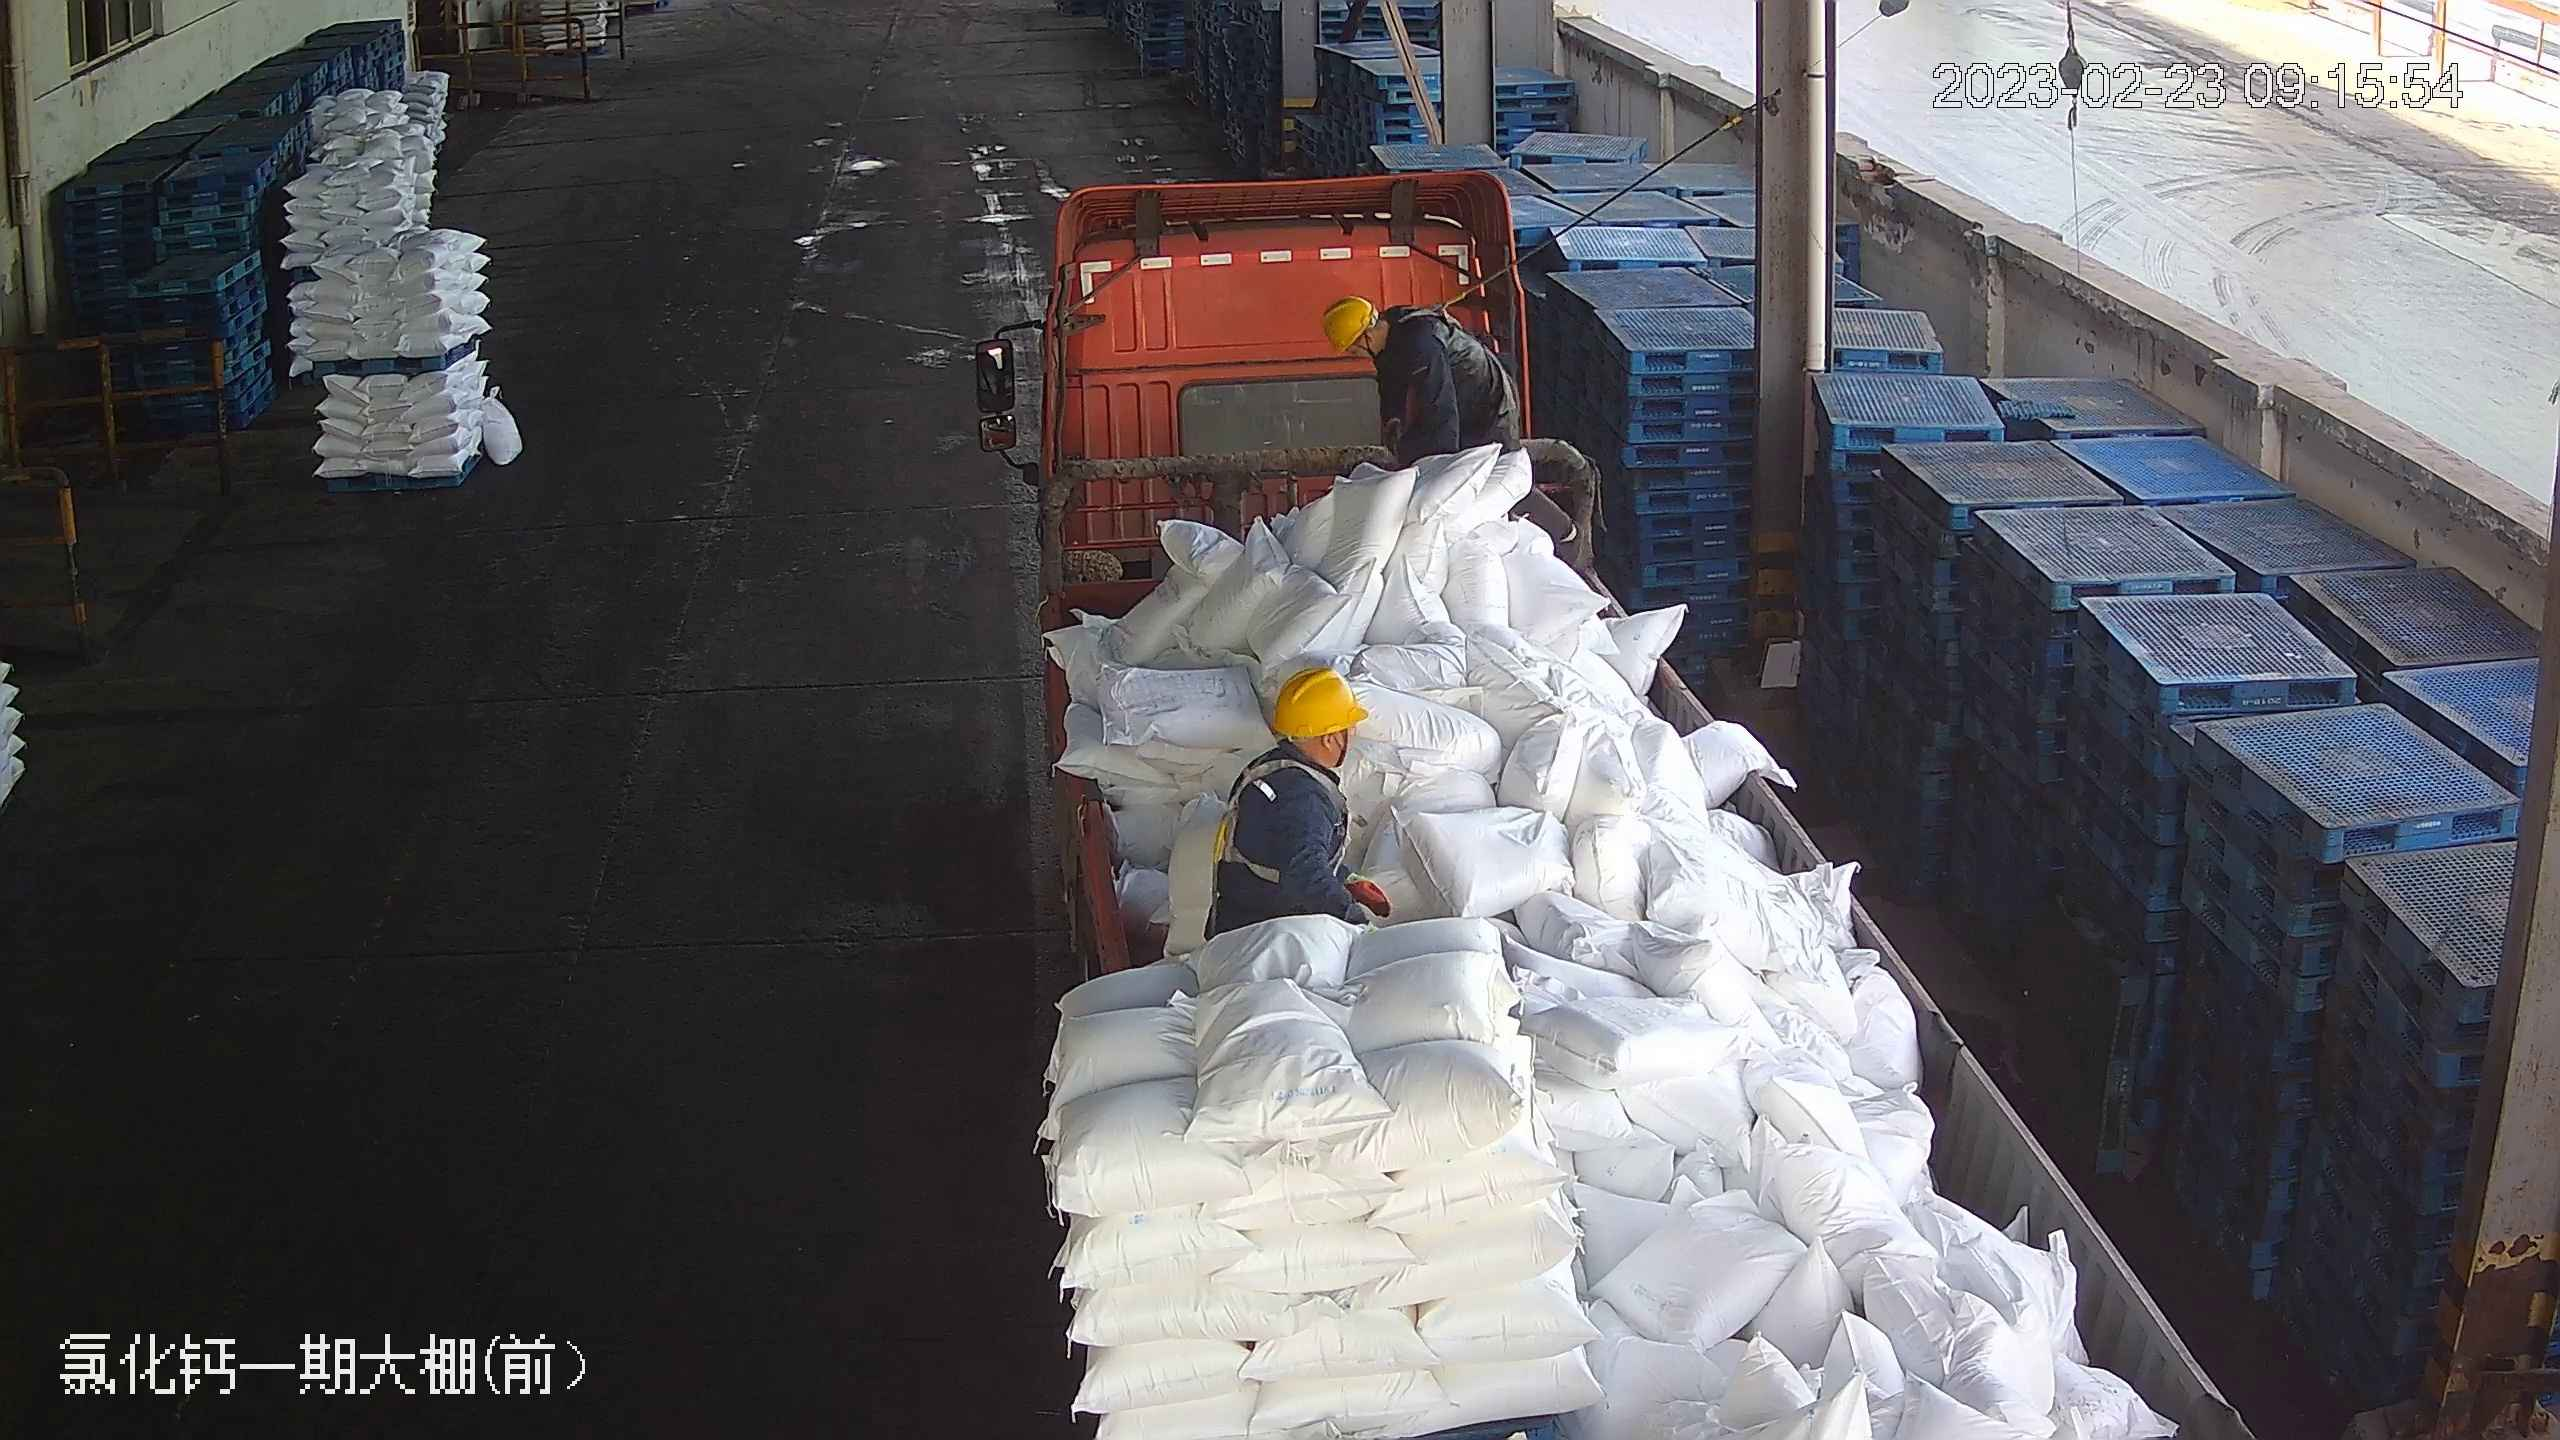belt: (1223, 753, 1353, 880), (1397, 299, 1482, 358)
head: (1223, 665, 1374, 846), (1322, 295, 1453, 396)
helmet: (1271, 664, 1367, 735), (1320, 293, 1377, 357)
people: (1211, 664, 1390, 940), (1316, 292, 1523, 482)
truck: (989, 160, 2256, 1433)
